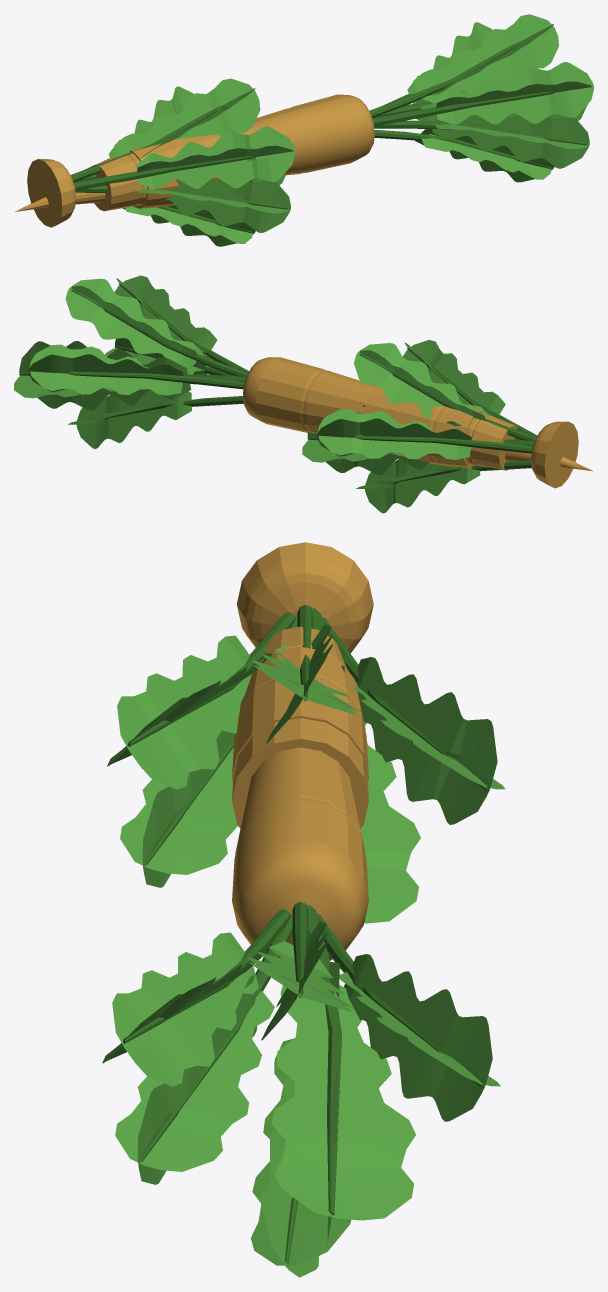
File: CarrotPeices.fbx
3 views of the same model, one above another, from view 1: azimuth 30°, elevation 25°; view 2: azimuth 150°, elevation 25°; view 3: azimuth 270°, elevation 25° (orthographic). The views are drawn at different scales.
Parts seen in each view (by area): view 1: Carrot_Whole, Cut1B, Cut2B, Cut3B, Cut1A; view 2: Carrot_Whole, Cut1B, Cut1A, Cut2B, Cut3B; view 3: Carrot_Whole, Cut1B, Cut3B, Cut2B, Cut1A.
Part boxes in pixels (x1,y1,x2,y2): Carrot_Whole: (21,14,593,208); Cut1B: (27,78,295,246); Cut2B: (91,132,251,211); Cut3B: (130,134,219,208); Cut1A: (15,94,342,211); Carrot_Whole: (14,275,592,471); Cut1B: (302,340,578,513); Cut1A: (256,359,589,469); Cut2B: (363,386,517,470); Cut3B: (387,402,482,468); Carrot_Whole: (102,747,500,1277); Cut1B: (107,542,505,923); Cut3B: (232,646,368,781); Cut2B: (232,626,368,828); Cut1A: (300,747,368,900).
Bounding box in the file's own units: 16.55 × 4.68 × 5.1.
